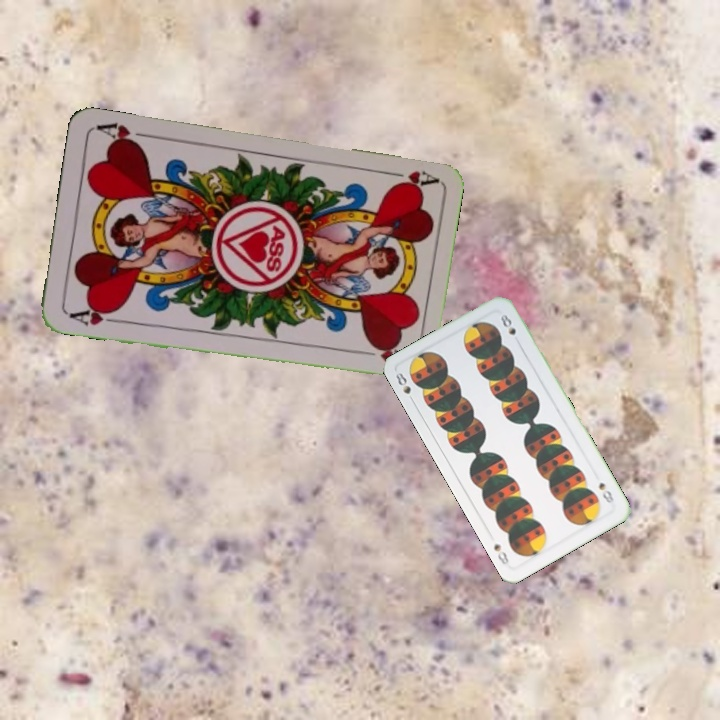HA: (65, 302, 123, 329), (379, 167, 439, 193)
S8: (391, 368, 417, 406), (594, 478, 616, 506)
